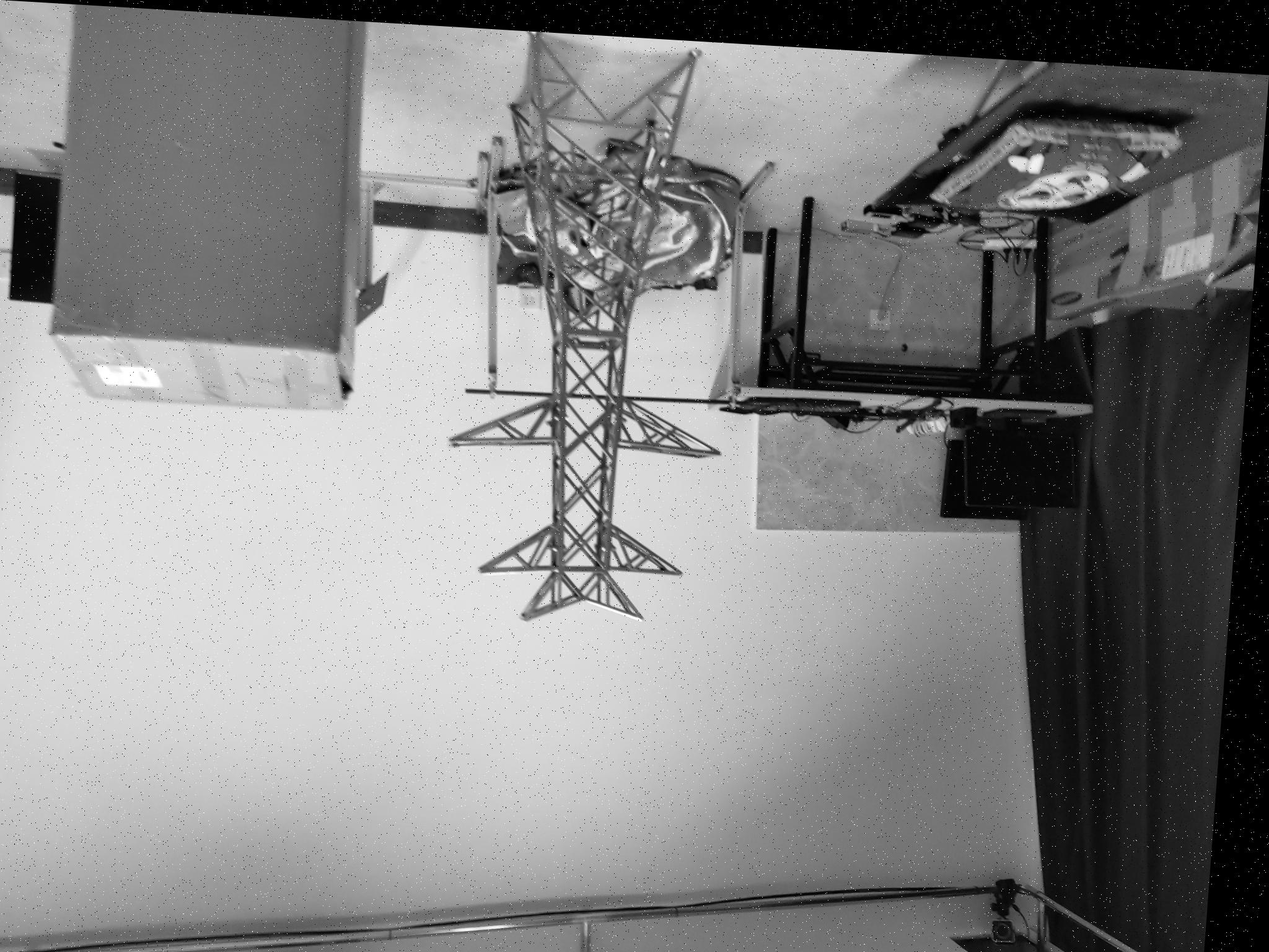tower: (436, 32, 748, 634)
